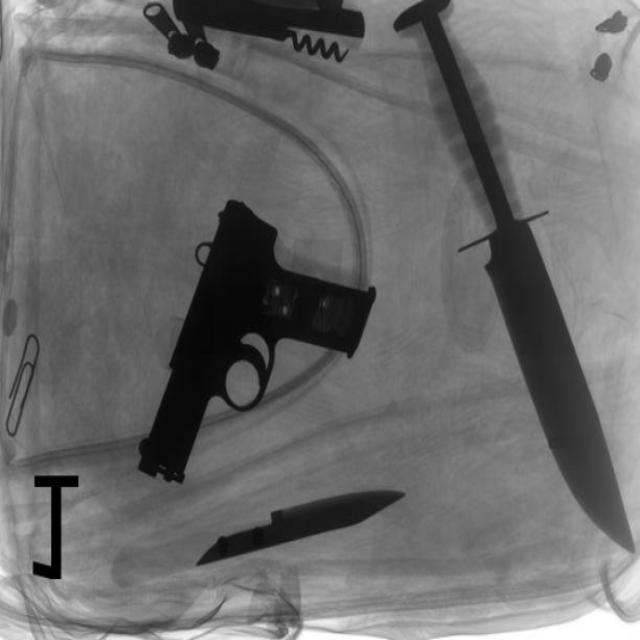GUN: (137, 204, 376, 488)
KNIFE: (391, 16, 615, 584), (193, 479, 409, 580)
